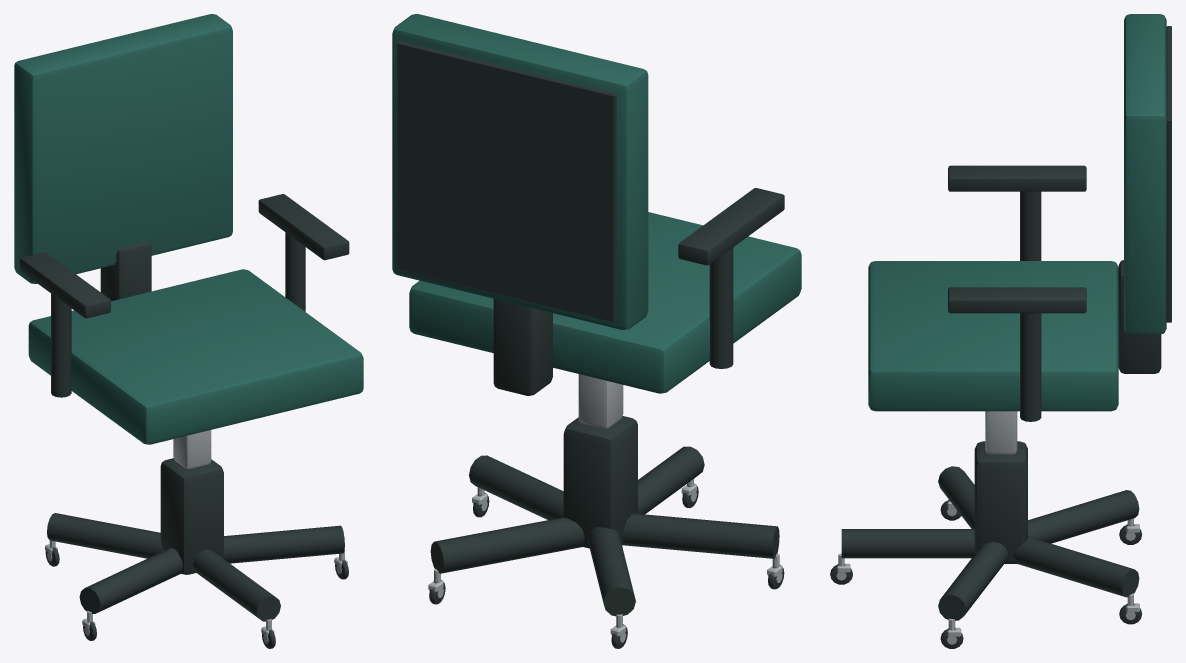
File: office-chair.glb
3 views of the same model, side by side, from view 1: azimuth 30°, elevation 25°; view 2: azimuth 150°, elevation 25°; view 3: azimuth 270°, elevation 25° (orthographic). The views are drawn at different scales.
Parts seen in each view (by area): view 1: office-chair; view 2: office-chair; view 3: office-chair.
Boxes of the visible parts, x1=… form: office-chair: x1=14, y1=14, x2=363, y2=648; office-chair: x1=392, y1=14, x2=801, y2=648; office-chair: x1=830, y1=14, x2=1171, y2=648.
Size of the model in its own units: 0.6 by 1.08 by 0.6416.
